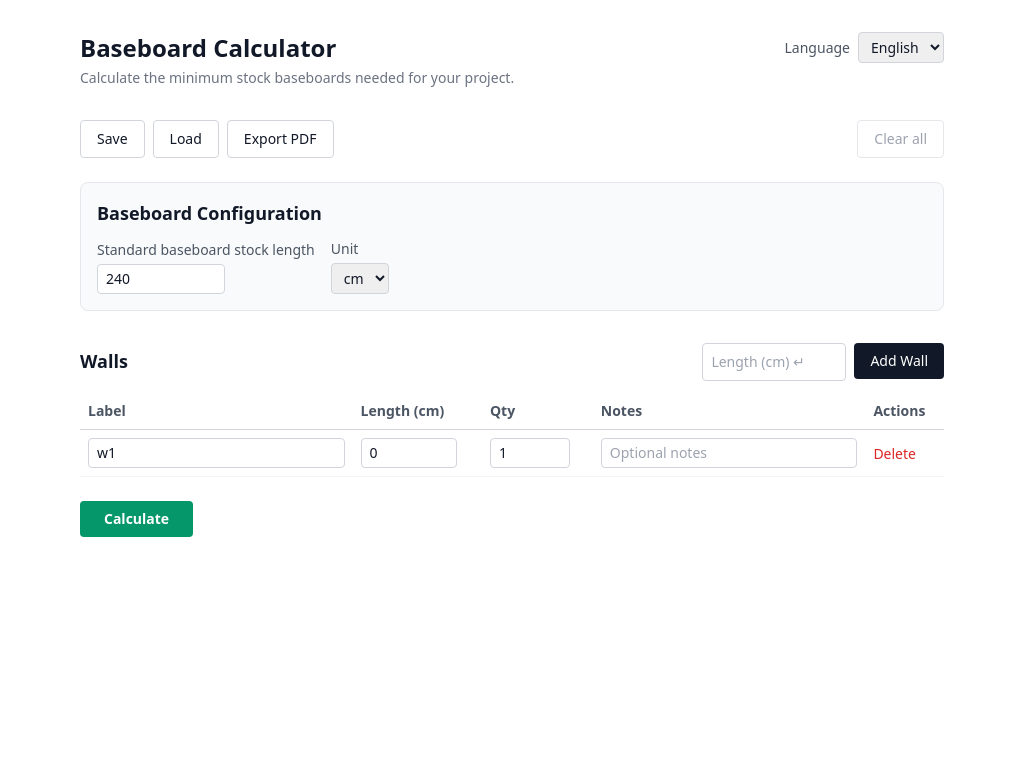
Test: App › flags oversized walls that require joined stock pieces
Replace the text in the number field named "Length" with "500" at (409,453), box [361,438,457,468]
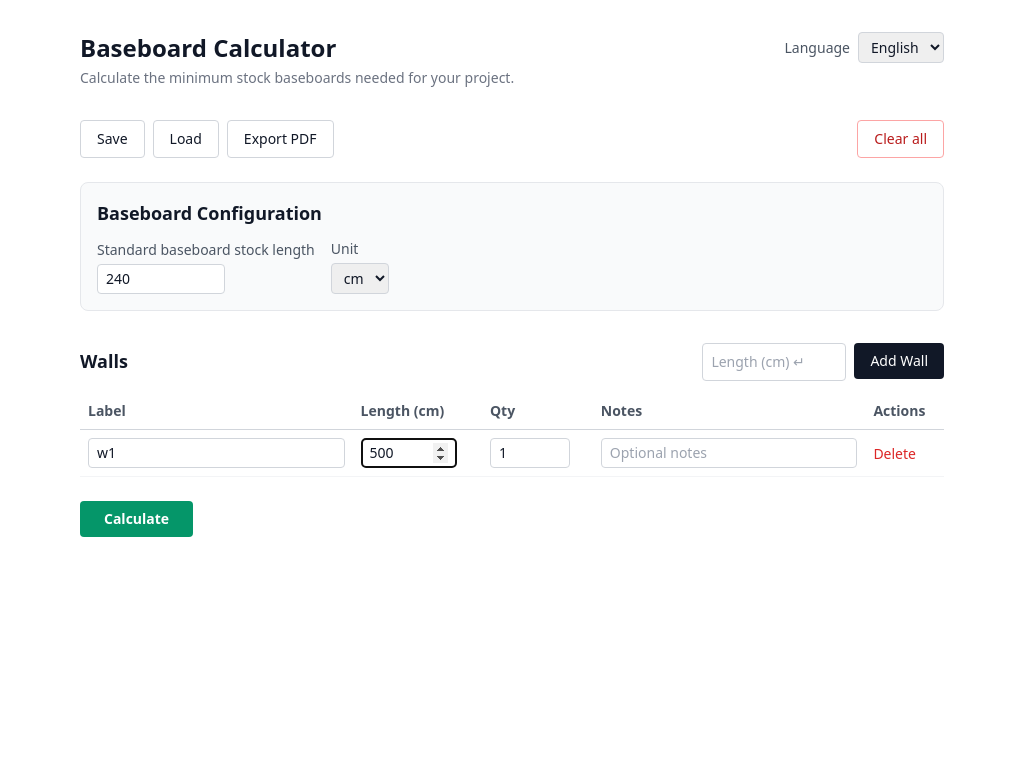
Click the button with test id "calculate-button".
click(137, 519)  # box [80,501,193,537]
(page scrolled)
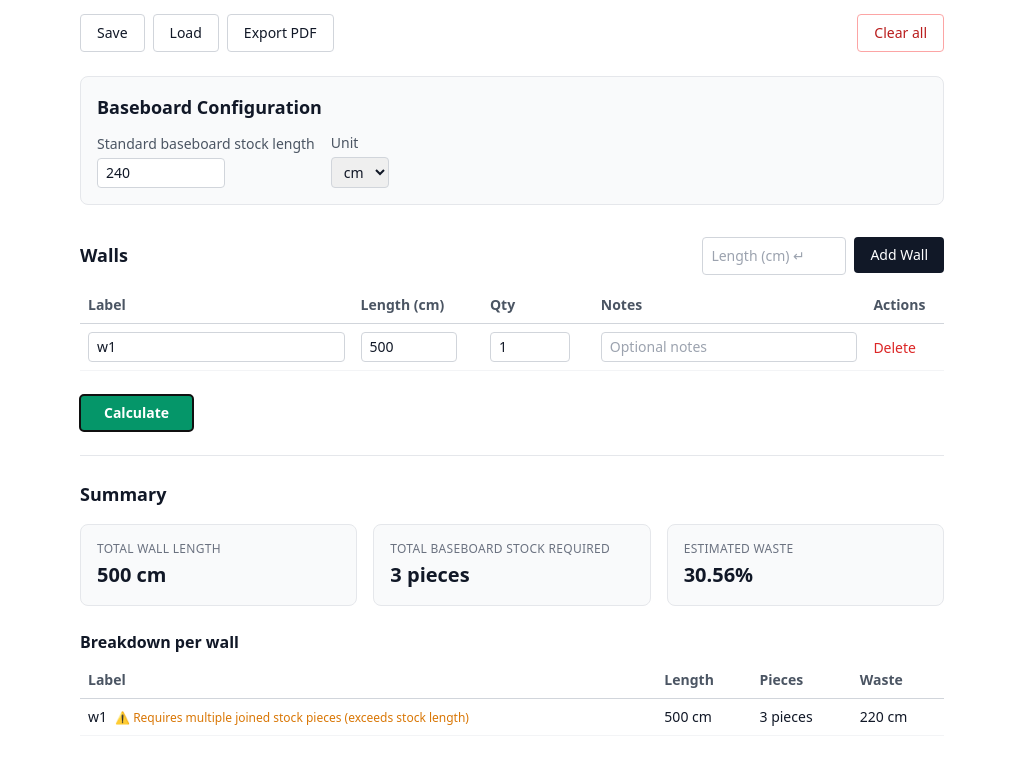
Expected: the text "Requires multiple joined stock pieces" is shown, [133,709,469,726]
